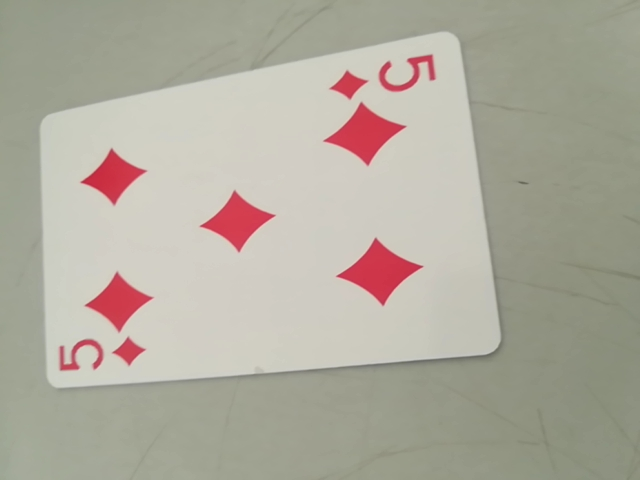fk 5: (329, 49, 443, 104), (50, 329, 151, 385)
